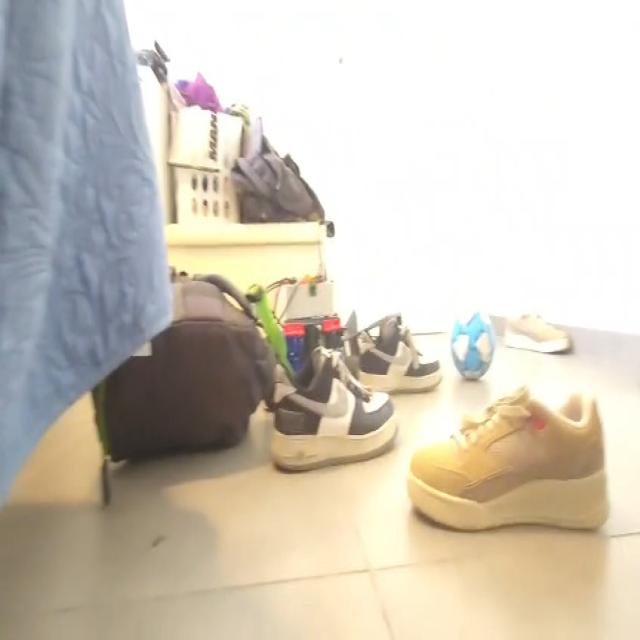Robot: (283, 273, 359, 381)
